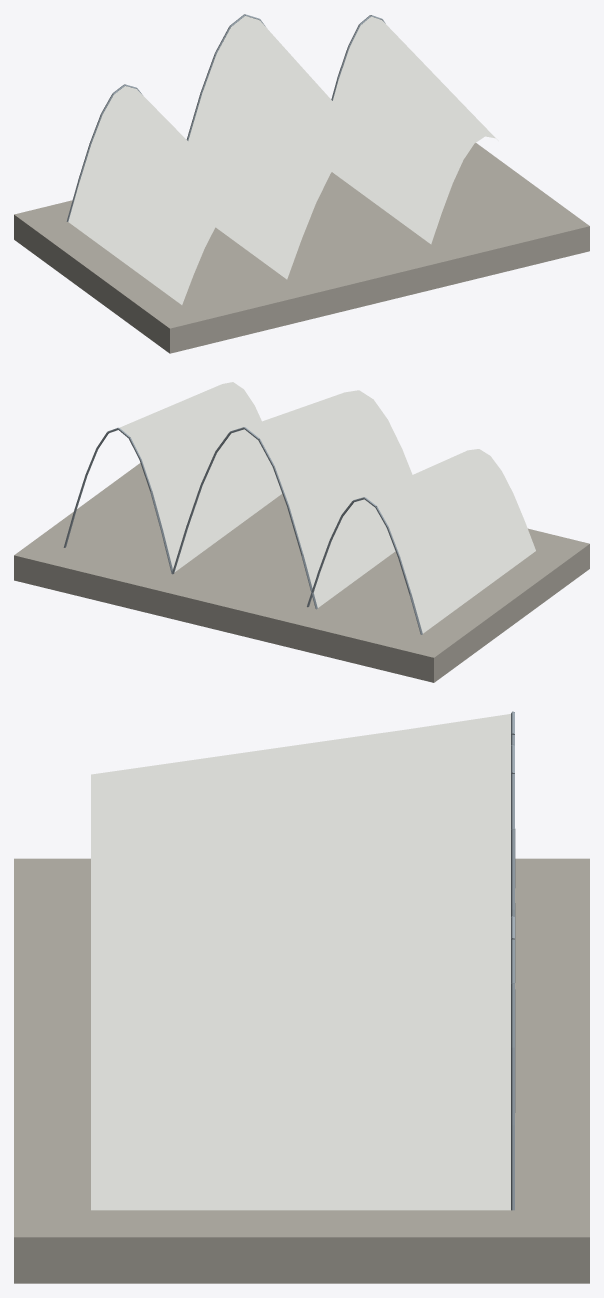
3 views of the same model, one above another, from view 1: azimuth 30°, elevation 25°; view 2: azimuth 150°, elevation 25°; view 3: azimuth 270°, elevation 25° (orthographic). The views are drawn at different scales.
Parts seen in each view (by area): view 1: worldgen; view 2: worldgen; view 3: worldgen.
Boxes of the visible parts, x1,y1,x2,y2 form: worldgen: (14, 14, 589, 353); worldgen: (14, 382, 589, 682); worldgen: (14, 711, 589, 1283).
Bounding box in the file's own units: 140 × 60.3 × 90.01.
